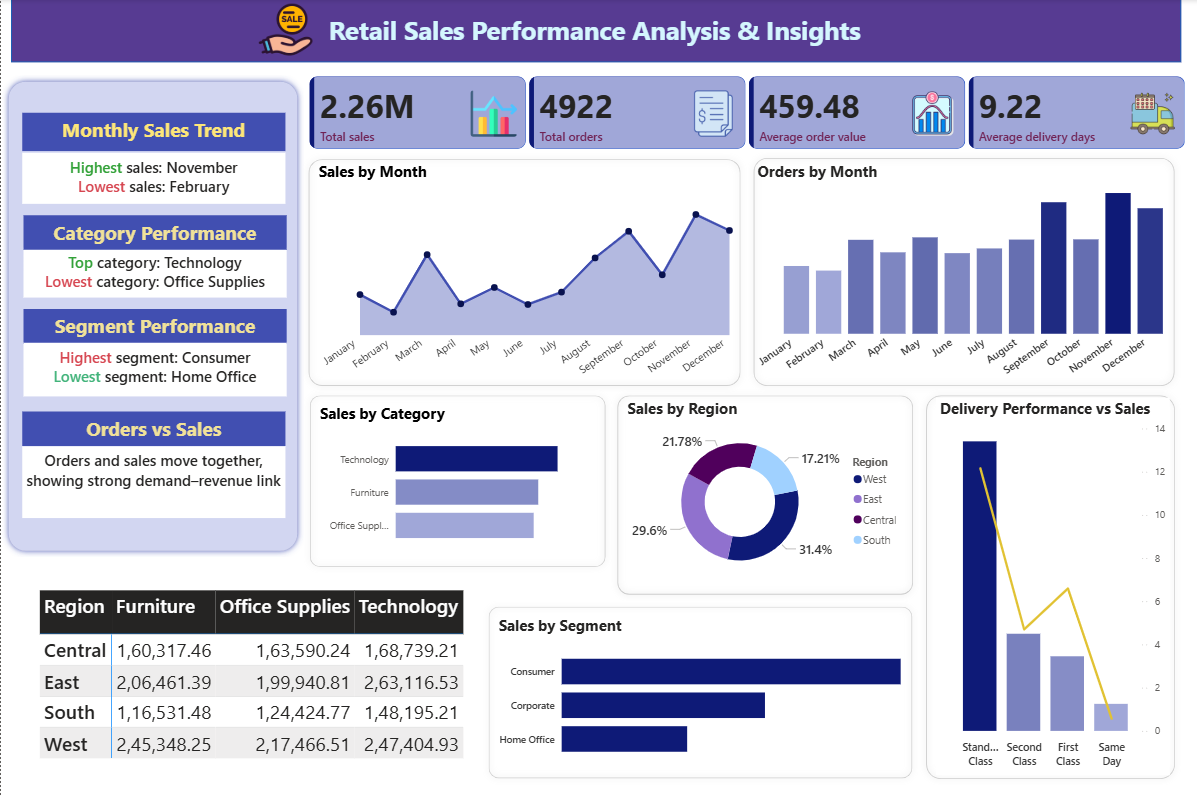

The page's visual inventory and layout, read from the dashboard file:
{"tool":"powerbi","page":{"name":"Page 1","canvas":[1500,1000],"ordinal":0},"visuals":[{"type":"shape","box":[377.6,193.1,556.9,300],"z":0},{"type":"cardVisual","fields":{"Data":["train.Total_sales","train.Total_orders","train.Average _order_value","train.Average_delivery_days"]},"box":[369,79.3,1131,125.9],"z":1000},{"type":"areaChart","title":"Sales by Month","fields":{"Category":["train.Order_Date .Variation.Date Hierarchy.Month"],"Y":["Sum(train.Sales)"]},"box":[393.1,203.4,541.4,289.7],"z":2000},{"type":"barChart","title":"Sales by Category","fields":{"Category":["train.Category"],"Y":["Sum(train.Sales)"]},"box":[394.8,505.2,350,193.1],"z":3000},{"type":"columnChart","title":"Orders by Month","fields":{"Y":["CountNonNull(train.Order_ID)"],"Category":["train.Order_Date .Variation.Date Hierarchy.Month"]},"box":[943.1,203.4,534.5,287.9],"z":4000},{"type":"barChart","title":"Sales by Segment","fields":{"Category":["train.Segment"],"Y":["Sum(train.Sales)"]},"box":[619,772.4,532.8,194.8],"z":5000},{"type":"shape","box":[1.7,94.8,377.6,603.4],"z":6000},{"type":"textbox","box":[25.9,193.1,329.3,63.8],"z":7000},{"type":"textbox","box":[27.6,312.1,329.3,62.1],"z":8000},{"type":"textbox","box":[25.9,143.1,329.3,48.3],"z":9000},{"type":"textbox","box":[27.6,270.7,329.3,43.1],"z":10000},{"type":"textbox","box":[27.6,387.9,329.3,43.1],"z":11000},{"type":"textbox","box":[27.6,431,329.3,67.2],"z":12000},{"type":"textbox","box":[25.9,517.2,329.3,43.1],"z":13000},{"type":"textbox","box":[25.9,560.3,329.3,89.7],"z":14000},{"type":"shape","box":[12.1,0,1465.5,79.3],"z":15000},{"type":"textbox","box":[362.1,12.1,763.8,55.2],"z":16000},{"type":"shape","box":[603.4,753.4,546.6,231],"z":17000},{"type":"image","box":[305.2,5.2,101.7,67.2],"z":18000},{"type":"shape","box":[934.5,191.4,543.1,301.7],"z":19000},{"type":"donutChart","title":"Sales by Region","fields":{"Y":["Sum(train.Sales)"],"Category":["train.Region"]},"box":[779.3,500,356.9,236.2],"z":20000},{"type":"shape","box":[763.8,487.9,386.2,265.5],"z":21000},{"type":"shape","box":[1150,487.9,327.6,496.6],"z":22000},{"type":"lineStackedColumnComboChart","title":"Delivery Performance vs Sales","fields":{"Category":["train.Ship_Mode"],"Y":["Sum(train.Sales)"],"Y2":["train.Average delivery days"]},"box":[1170.7,500,293.1,472.4],"z":23000},{"type":"pivotTable","fields":{"Rows":["train.Region"],"Columns":["train.Category"],"Values":["Sum(train.Sales)"]},"box":[43.1,736.2,548.3,236.2],"z":24000},{"type":"shape","box":[379.3,487.9,386.2,231],"z":25000}]}

Visuals, with their boxes in screenshot pixels (x1, y1, x2, y2), scaled from the page's 1500x1000 canvas onto the 1197x796 screenshot:
shape: <box>301,154,746,393</box>
cardVisual - train.Total_sales x train.Total_orders: <box>294,63,1196,163</box>
"Sales by Month" areaChart: <box>314,162,746,393</box>
"Sales by Category" barChart: <box>315,402,594,556</box>
"Orders by Month" columnChart: <box>753,162,1179,391</box>
"Sales by Segment" barChart: <box>494,615,919,770</box>
shape: <box>1,75,303,556</box>
textbox: <box>21,154,283,204</box>
textbox: <box>22,248,285,298</box>
textbox: <box>21,114,283,152</box>
textbox: <box>22,215,285,250</box>
textbox: <box>22,309,285,343</box>
textbox: <box>22,343,285,397</box>
textbox: <box>21,412,283,446</box>
textbox: <box>21,446,283,517</box>
shape: <box>10,0,1179,63</box>
textbox: <box>289,10,898,54</box>
shape: <box>482,600,918,784</box>
image: <box>244,4,325,58</box>
shape: <box>746,152,1179,393</box>
"Sales by Region" donutChart: <box>622,398,907,586</box>
shape: <box>610,388,918,600</box>
shape: <box>918,388,1179,784</box>
"Delivery Performance vs Sales" lineStackedColumnComboChart: <box>934,398,1168,774</box>
pivotTable - train.Region x train.Category: <box>34,586,472,774</box>
shape: <box>303,388,611,572</box>
